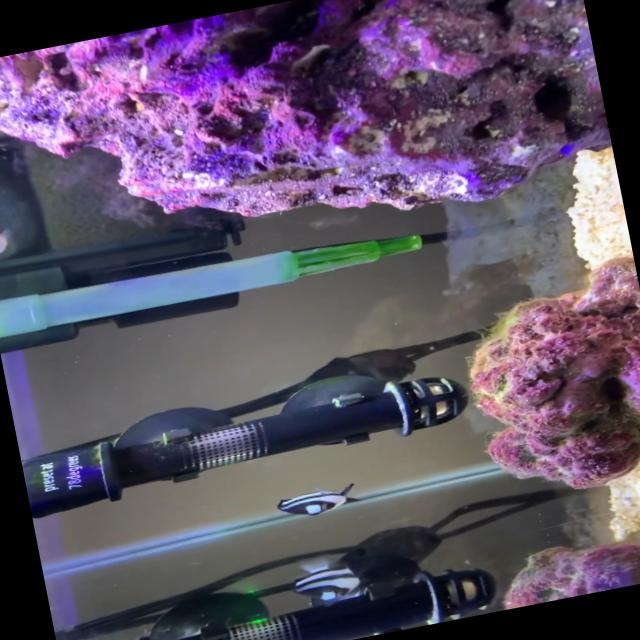ThreeStripedDamselfish: (277, 482, 355, 515)
